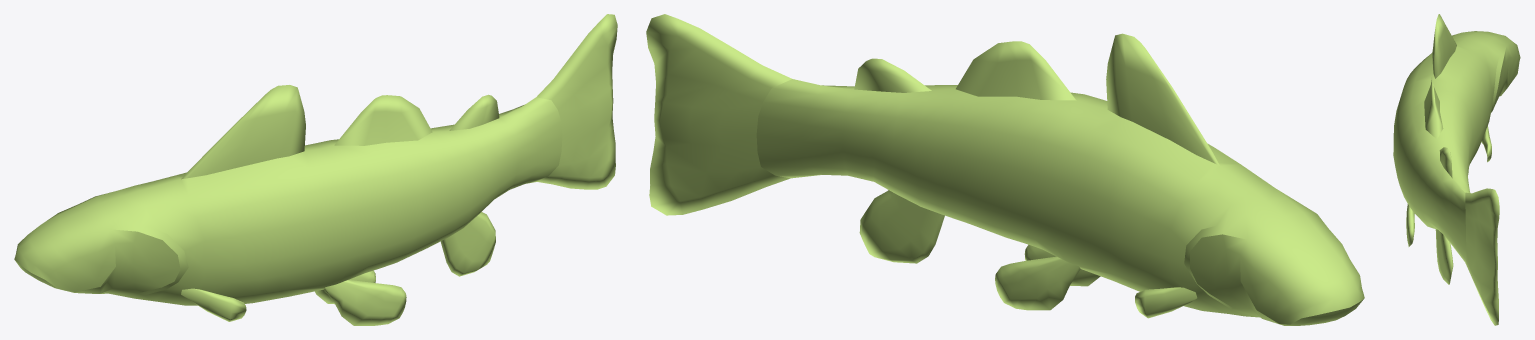
The model's file is FUCKI_ng WORK ALRWADY.fbx.
3 renders of one model, left to right at view 1: azimuth 30°, elevation 25°; view 2: azimuth 150°, elevation 25°; view 3: azimuth 270°, elevation 25°, orthographic. The views are drawn at different scales.
Parts seen in each view (by area): view 1: fish test.002; view 2: fish test.002; view 3: fish test.002.
Boxes of the visible parts, x1,y1,x2,y2 form: fish test.002: (14,14,617,325); fish test.002: (646,14,1364,325); fish test.002: (1393,14,1520,325).
Bounding box in the file's own units: 49.26 × 19.29 × 11.34.
